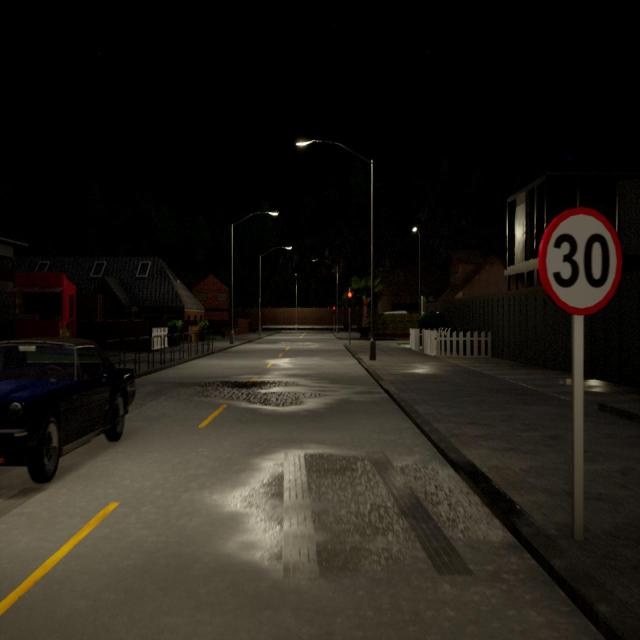Traffic_Signs: (537, 205, 623, 312)
Vehicle: (0, 341, 137, 483)
traffic_light: (347, 291, 352, 304), (423, 299, 426, 311), (332, 306, 336, 314)
